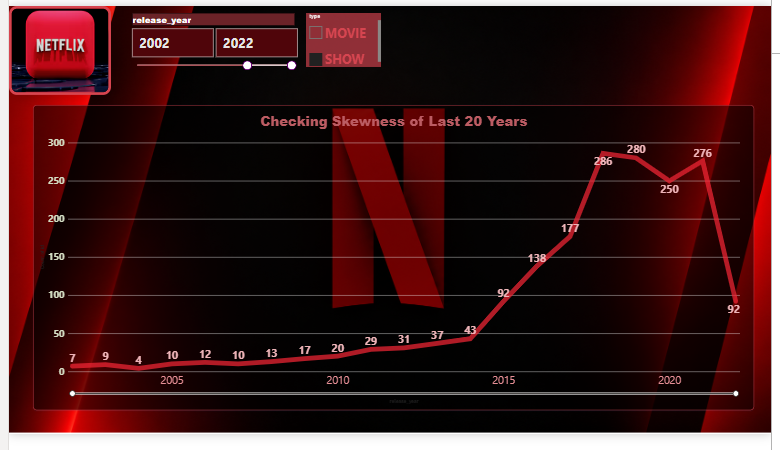

What the dashboard file says about the page in this screenshot:
{"tool":"powerbi","page":{"name":"Dashboard-2","canvas":[1280,720],"ordinal":1},"visuals":[{"type":"image","box":[1.2,0,149.7,148.5],"z":0},{"type":"slicer","fields":{"Values":["Netflix TV Shows and Movies.release_year"]},"box":[166,22,303.3,115.3],"z":1000},{"type":"slicer","fields":{"Values":["Netflix TV Shows and Movies.type"]},"box":[490.8,22.1,149.7,115.3],"z":2000},{"type":"lineChart","title":"Checking Skewness of last 20 Years","fields":{"Category":["Netflix TV Shows and Movies.release_year"],"Y":["CountNonNull(Netflix TV Shows and Movies.id)"]},"box":[1.4,148.2,1278.9,572.2],"z":4000}]}

Visuals, with their boxes in screenshot pixels (x1, y1, x2, y2), scaled from the page's 1280x720 canvas onto the 780x450 screenshot:
image: [1, 0, 92, 93]
slicer - Netflix TV Shows and Movies.release_year: [101, 14, 286, 86]
slicer - Netflix TV Shows and Movies.type: [299, 14, 390, 86]
"Checking Skewness of last 20 Years" lineChart: [1, 93, 779, 449]
